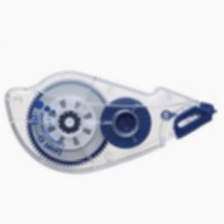correction_fluid: (2, 69, 219, 176)
